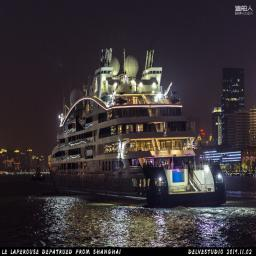cruises: (49, 47, 229, 211)
